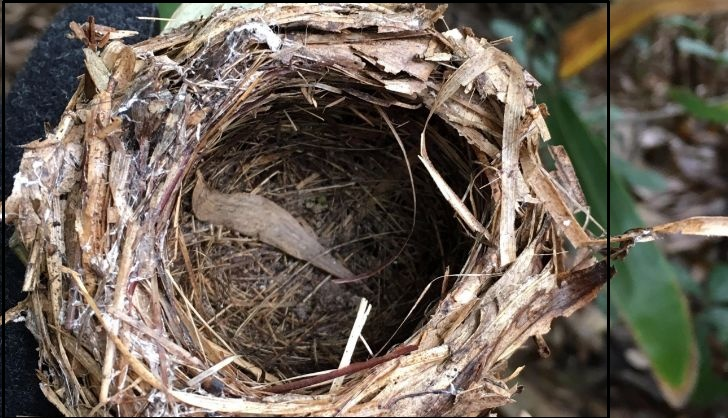bird-nest: (13, 1, 601, 417)
